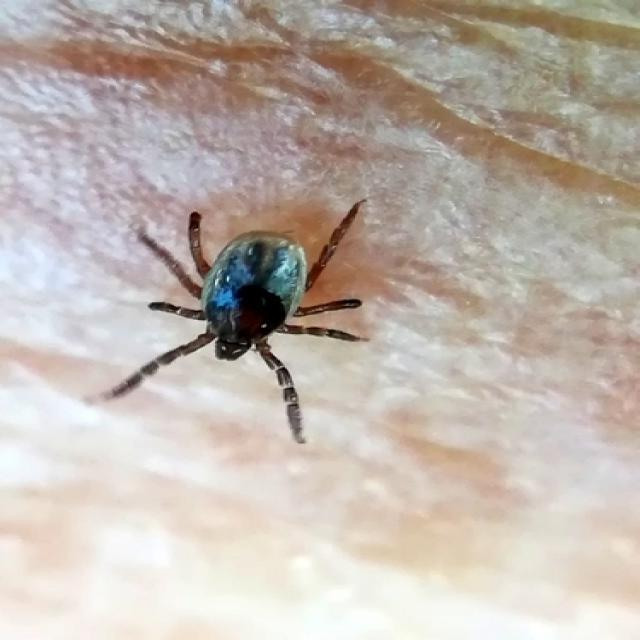Ixodes Ricinus-M: (101, 200, 365, 443)
